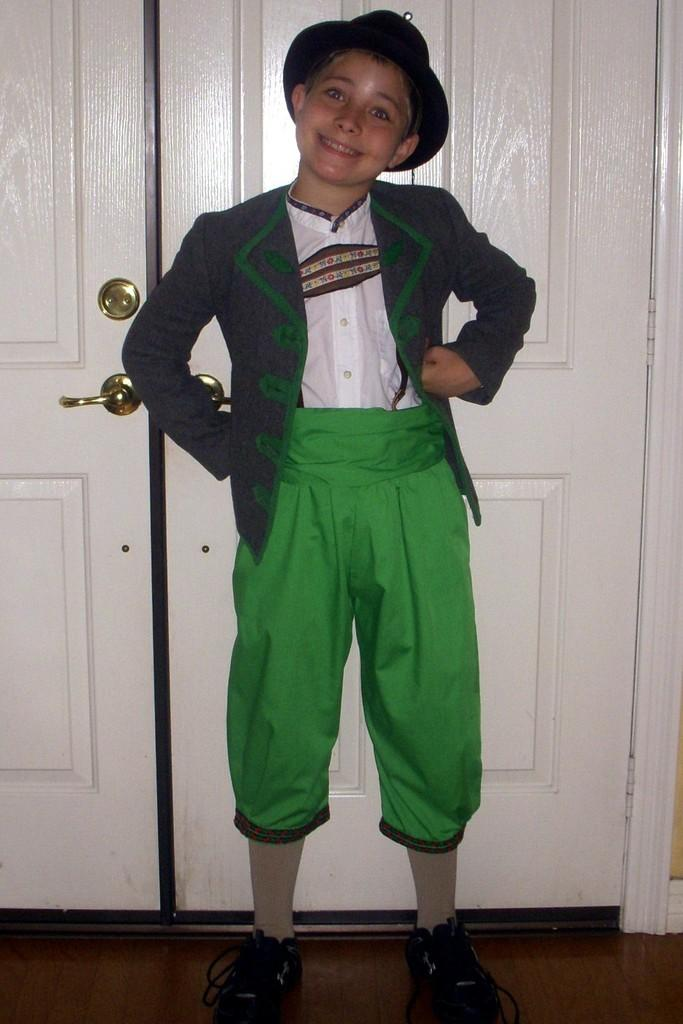handle: (55, 380, 124, 430)
